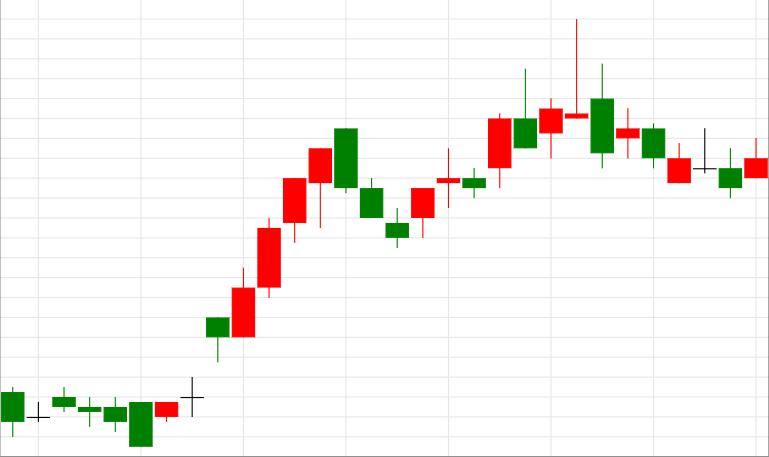hanging_man_fall: (155, 148, 332, 422)
shooting_star_fall: (386, 68, 537, 249)
three_black_crows_fall: (154, 128, 409, 422)
